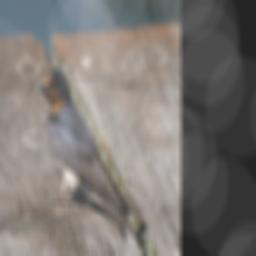Swallow: (38, 67, 147, 250)
